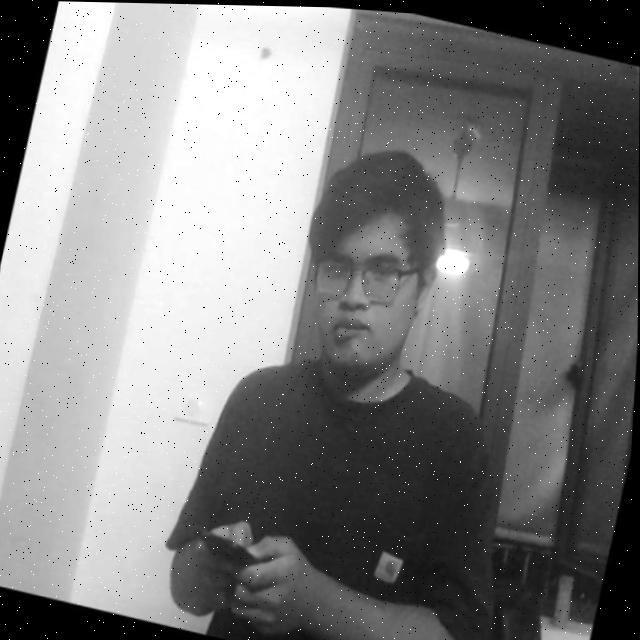phone: (179, 514, 300, 616)
